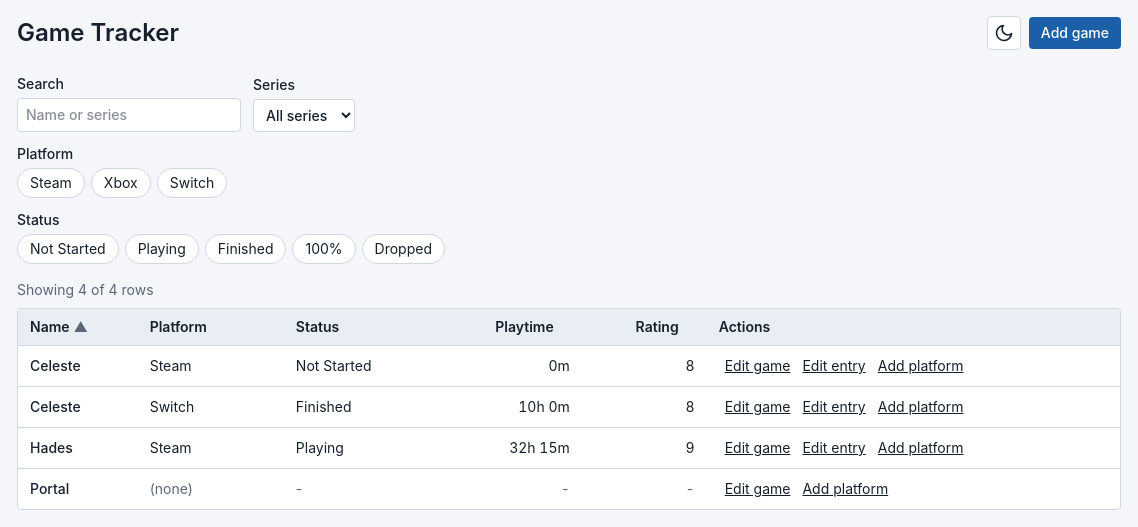
Test: LibraryPage › combines search and platform filters and can clear them
Expected: the table is shown, [18,309,1120,509]
Click the button "Steam": (51, 183) [17,168,85,198]
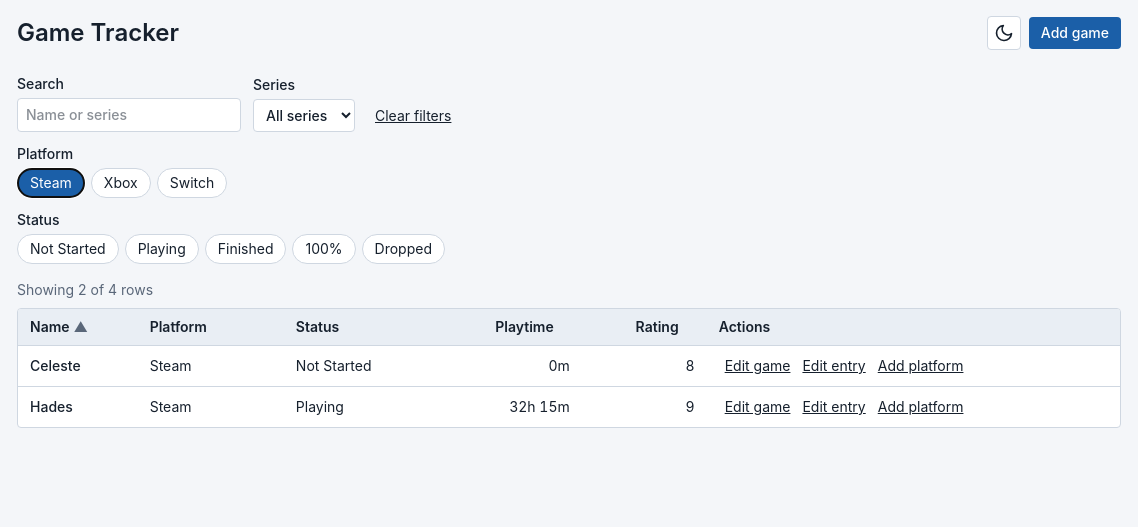
In the search field labelled "Search": (129, 115) [17,98,241,132], type "had"
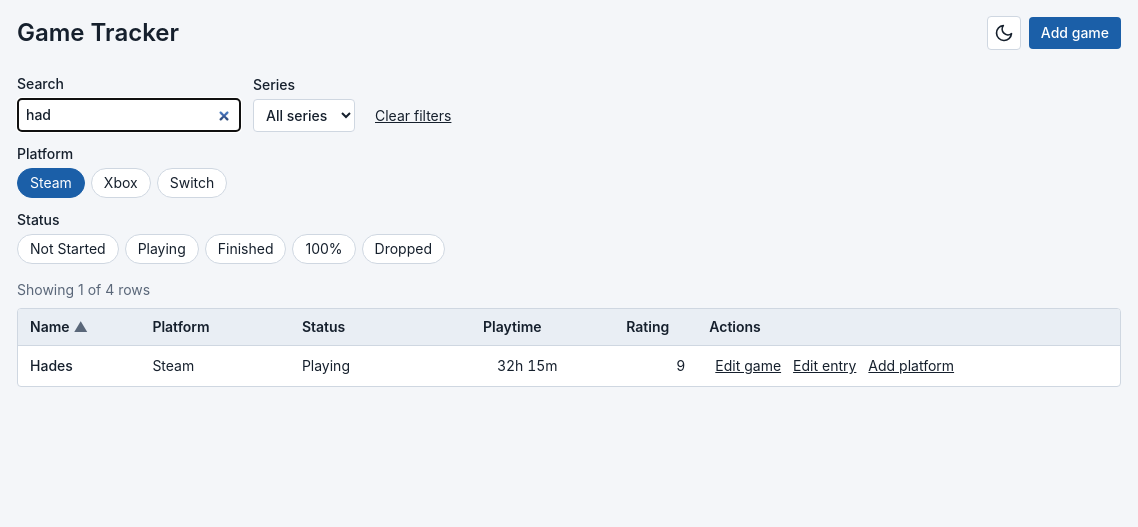
In the search field labelled "Search": (129, 115) [17,98,241,132], type "zzz"
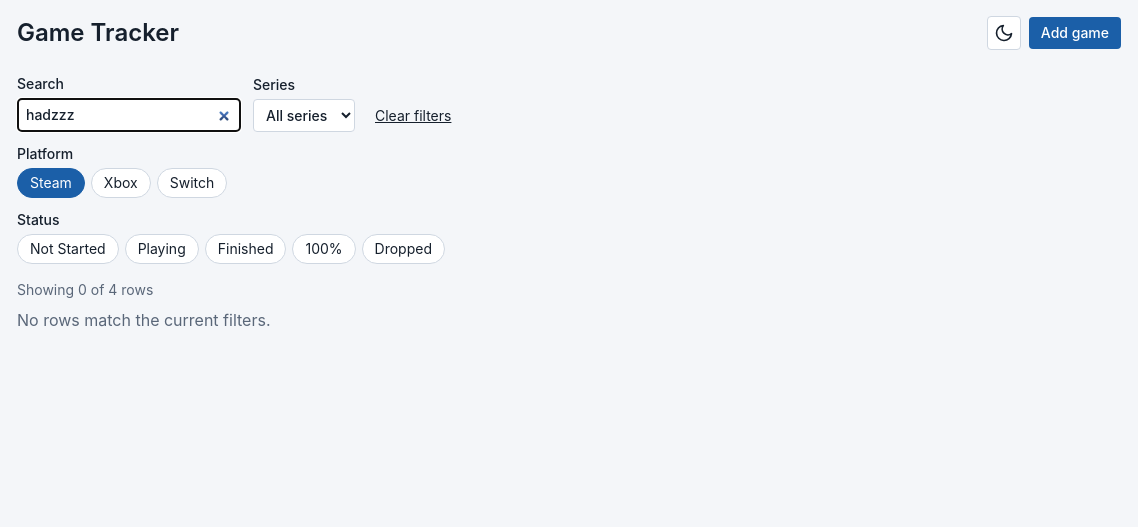
Result: the table is gone
Result: the text "No rows match the current filters." is shown at [17,310,270,330]
Click the button "Clear filters": (413, 116) [367,100,459,132]
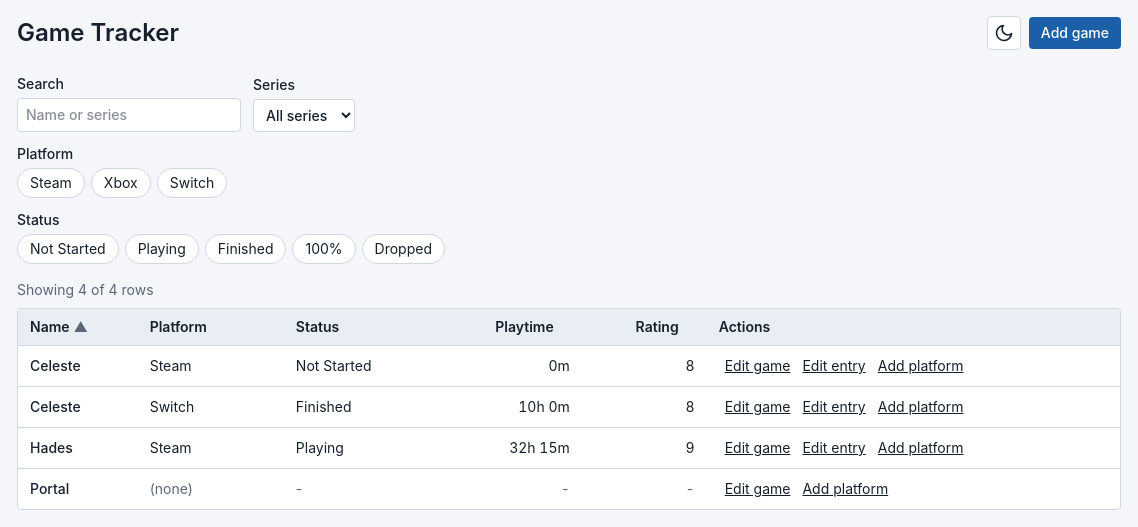
Result: the search field labelled "Search" is empty at [17,98,241,132]
